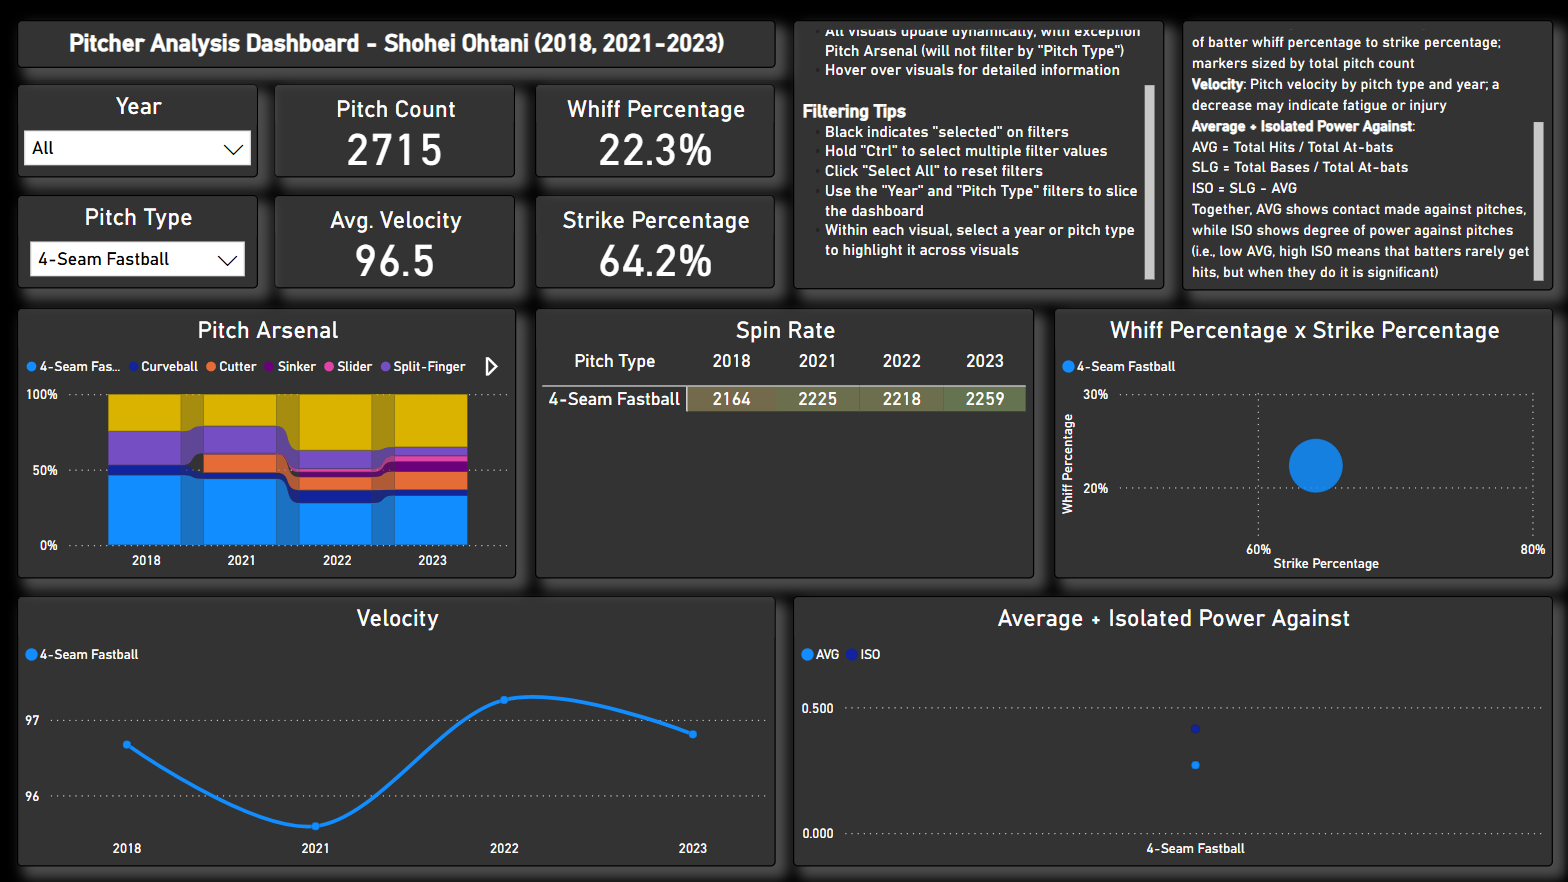

The page's visual inventory and layout, read from the dashboard file:
{"tool":"powerbi","page":{"name":"Page 1","canvas":[1280,720],"ordinal":0},"visuals":[{"type":"lineChart","title":"Velocity","fields":{"Y":["ohtani_pitching_cleaned.Velocity"],"Series":["ohtani_pitching_cleaned.Pitch Type"],"Category":["YearAxis.YearAxisText"]},"box":[16.2,485.8,617,219.8],"z":0},{"type":"columnChart","title":"Pitch Arsenal","fields":{"Series":["ohtani_pitching_cleaned.Pitch Type"],"Category":["ohtani_pitching_cleaned.YearText"],"Y":["ohtani_pitching_cleaned.Pitch Usage %"]},"box":[16.2,251,406,219.8],"z":1000},{"type":"pivotTable","title":"Spin Rate","fields":{"Values":["ohtani_pitching_cleaned.Spin Rate"],"Rows":["ohtani_pitching_cleaned.Pitch Type"],"Columns":["ohtani_pitching_cleaned.Year"]},"box":[437.8,251,406,219.8],"z":2000},{"type":"card","title":"Pitch Count","fields":{"Values":["ohtani_pitching_cleaned.Pitch Type"]},"box":[225.2,68.9,196.5,75.8],"z":3000},{"type":"card","title":"Strike Percentage","fields":{"Values":["ohtani_pitching_cleaned.Strike %"]},"box":[437.8,159.7,195.3,75.8],"z":4000},{"type":"card","title":"Whiff Percentage","fields":{"Values":["ohtani_pitching_cleaned.Whiff %"]},"box":[437.8,68.9,195.3,75.8],"z":5000},{"type":"card","title":"Avg. Velocity","fields":{"Values":["ohtani_pitching_cleaned.Velocity"]},"box":[225.2,159.7,196.5,75.8],"z":6000},{"type":"slicer","title":"Year","fields":{"Values":["ohtani_pitching_cleaned.Year"]},"box":[16.1,68.9,196,75.8],"z":7000},{"type":"slicer","title":"Pitch Type","fields":{"Values":["ohtani_pitching_cleaned.Pitch Type"]},"box":[16.1,159.7,196,75.8],"z":8000},{"type":"scatterChart","title":"Whiff Percentage x Strike Percentage","fields":{"Y":["ohtani_pitching_cleaned.Whiff %"],"Series":["ohtani_pitching_cleaned.Pitch Type"],"Size":["ohtani_pitching_cleaned.Total Pitches"],"X":["ohtani_pitching_cleaned.Strike %"]},"box":[859.4,251,406,219.8],"z":9000},{"type":"stackedAreaChart","title":"Average + Isolated Power Against","fields":{"Category":["ohtani_pitching_cleaned.Pitch Type"],"Series":["MetricLayer.Layer"],"Y":["ohtani_pitching_cleaned.Metric Value"]},"box":[647.7,485.8,617.6,219.8],"z":10000},{"type":"textbox","box":[647.7,17.2,302.1,218.6],"z":11000},{"type":"textbox","box":[963.4,17.2,302.1,219.5],"z":12000},{"type":"textbox","box":[16.3,17.2,616.9,39],"z":13000}]}

Visuals, with their boxes in screenshot pixels (x1, y1, x2, y2), scaled from the page's 1280x720 canvas onto the 1568x882 screenshot:
"Velocity" lineChart: bbox=(20, 595, 776, 864)
"Pitch Arsenal" columnChart: bbox=(20, 307, 517, 577)
"Spin Rate" pivotTable: bbox=(536, 307, 1034, 577)
"Pitch Count" card: bbox=(276, 84, 517, 177)
"Strike Percentage" card: bbox=(536, 196, 776, 288)
"Whiff Percentage" card: bbox=(536, 84, 776, 177)
"Avg. Velocity" card: bbox=(276, 196, 517, 288)
"Year" slicer: bbox=(20, 84, 260, 177)
"Pitch Type" slicer: bbox=(20, 196, 260, 288)
"Whiff Percentage x Strike Percentage" scatterChart: bbox=(1053, 307, 1550, 577)
"Average + Isolated Power Against" stackedAreaChart: bbox=(793, 595, 1550, 864)
textbox: bbox=(793, 21, 1164, 289)
textbox: bbox=(1180, 21, 1550, 290)
textbox: bbox=(20, 21, 776, 69)
